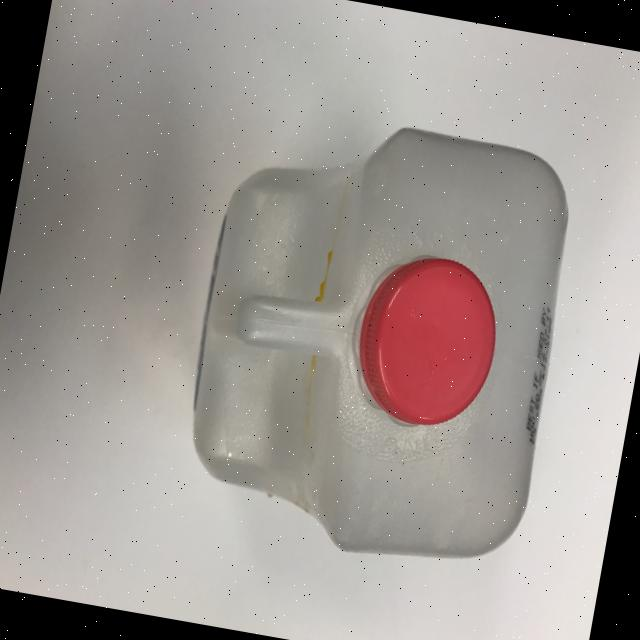plastic: (168, 96, 588, 581)
